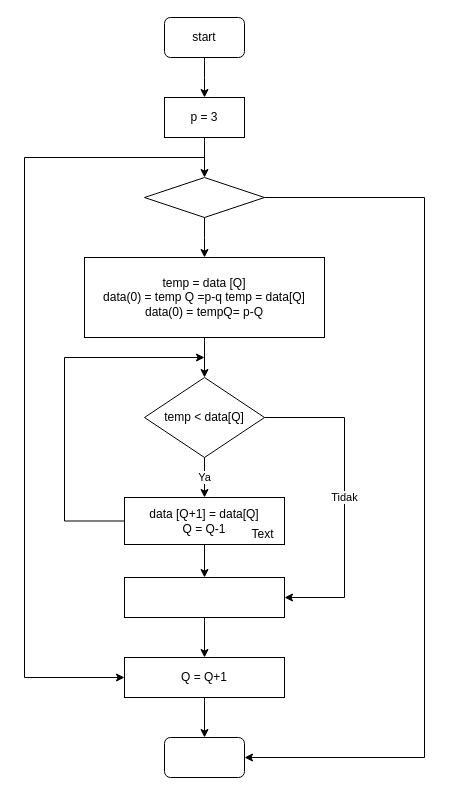
The diagram is 450 pixels wide and 795 high, and some of its shapes have lost their labels. Here are the shapes that lost their labels. From the top down, the centre of each, then its label:
(204,197): p <= n
(204,597): data [Q+1] = temp
(204,757): finish
